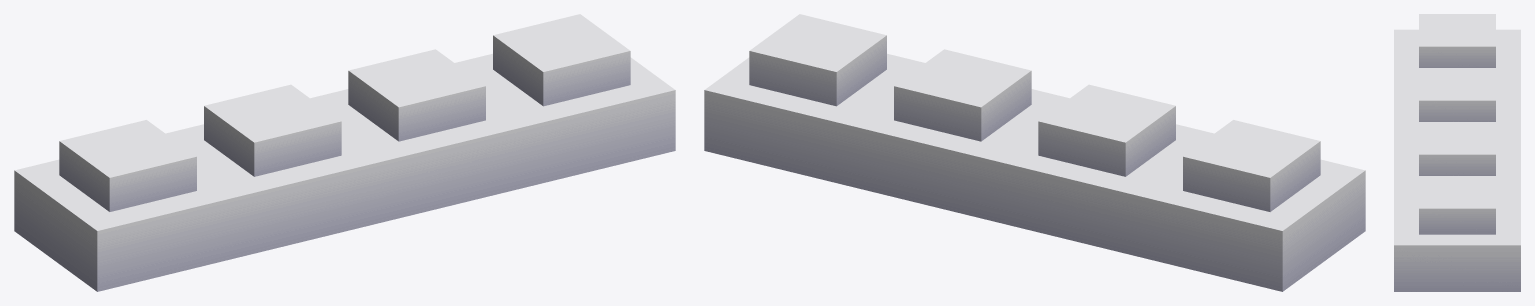
The model's file is square-lq-plate-1x4.glb.
The picture shows the model from 3 angles, left to right: view 1: azimuth 30°, elevation 25°; view 2: azimuth 150°, elevation 25°; view 3: azimuth 270°, elevation 25°; orthographic projection. The views are drawn at different scales.
Parts seen in each view (by area): view 1: square-lq-plate-1x4; view 2: square-lq-plate-1x4; view 3: square-lq-plate-1x4.
Boxes of the visible parts, <box> form: square-lq-plate-1x4: <box>14,14,675,291</box>; square-lq-plate-1x4: <box>704,14,1365,291</box>; square-lq-plate-1x4: <box>1394,14,1520,291</box>.
Bounding box in the file's own units: 0.318 × 0.05 × 0.079.
Materials: 1 (1 with a texture image).
